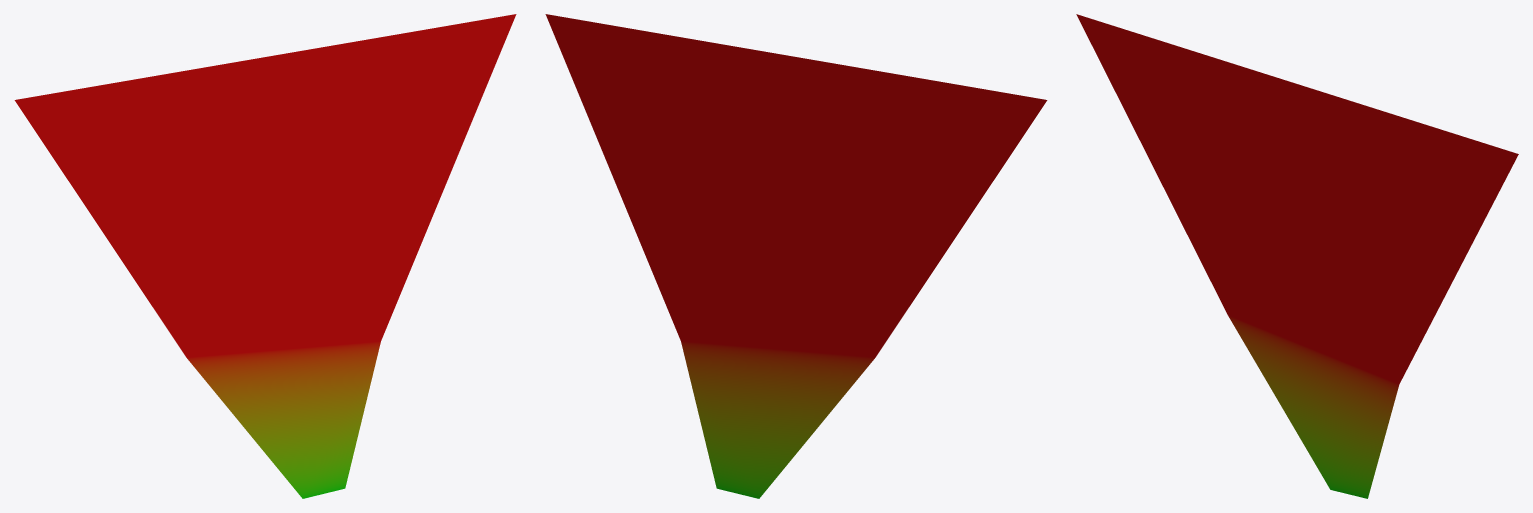
File: Carnation Weed_LOD3_Var5_smdpecor.fbx
The picture shows the model from 3 angles, left to right: view 1: azimuth 30°, elevation 25°; view 2: azimuth 150°, elevation 25°; view 3: azimuth 330°, elevation 25°; orthographic projection. The views are drawn at different scales.
Parts seen in each view (by area): view 1: _1723_Var5_LOD3; view 2: _1723_Var5_LOD3; view 3: _1723_Var5_LOD3.
Boxes of the visible parts, <box> form: _1723_Var5_LOD3: <box>14,14,516,498</box>; _1723_Var5_LOD3: <box>545,14,1047,498</box>; _1723_Var5_LOD3: <box>1076,14,1518,498</box>.
Size of the model in its own units: 22.02 by 19.67 by 6.56e-07.
